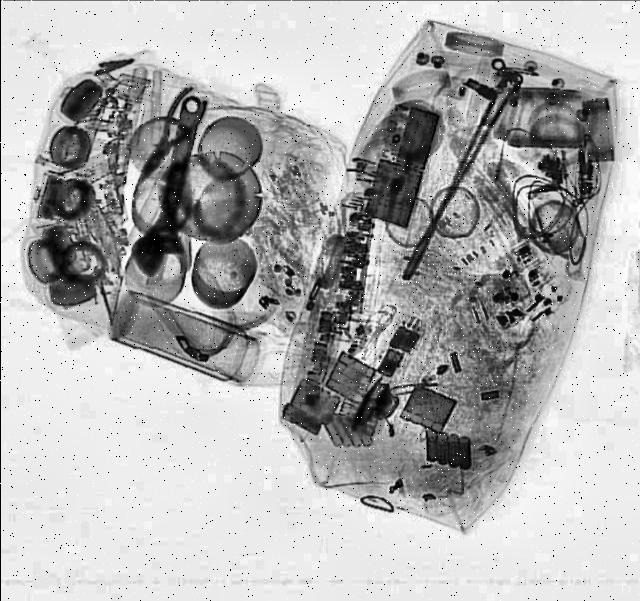Pliers: (123, 83, 214, 186)
Wrench: (123, 94, 215, 282)
